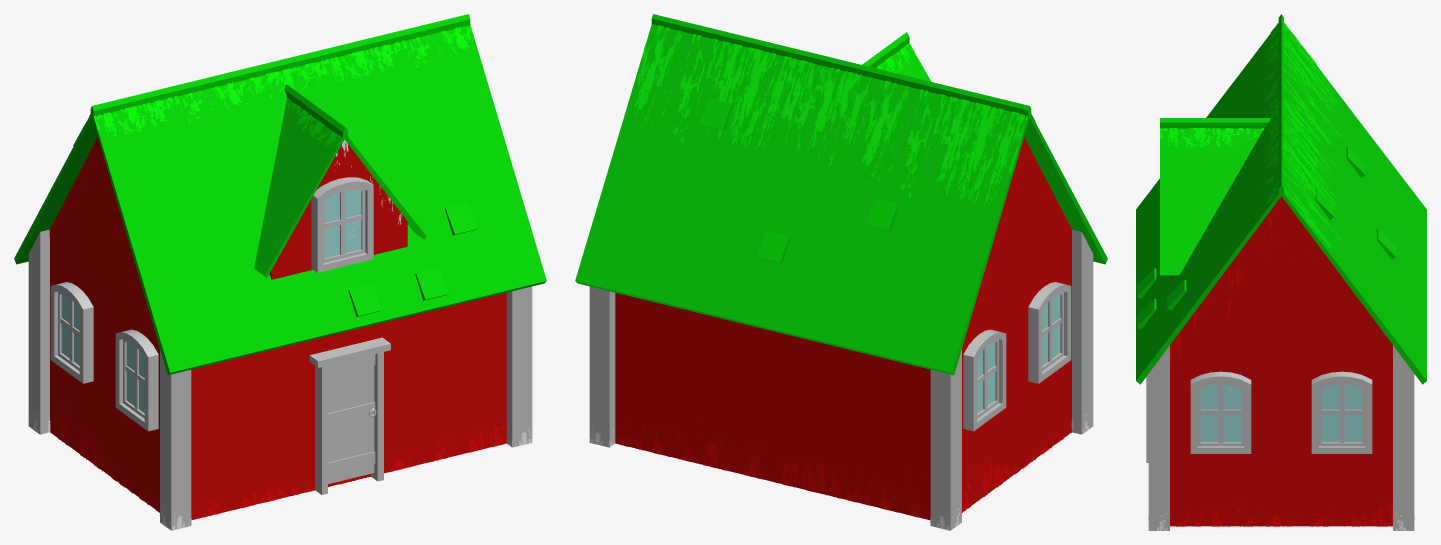
File: House_1f_3.fbx
The picture shows the model from 3 angles, left to right: view 1: azimuth 30°, elevation 25°; view 2: azimuth 150°, elevation 25°; view 3: azimuth 270°, elevation 25°; orthographic projection. The views are drawn at different scales.
Visible parts, largest first — view 1: House_1f_3; view 2: House_1f_3; view 3: House_1f_3.
Part boxes in pixels (box(x1,y1,x2,y2)): House_1f_3: box(14, 14, 546, 530); House_1f_3: box(575, 14, 1107, 530); House_1f_3: box(1136, 14, 1426, 530).
Size of what is drawn, in the model's own units: 663 by 630 by 476.
